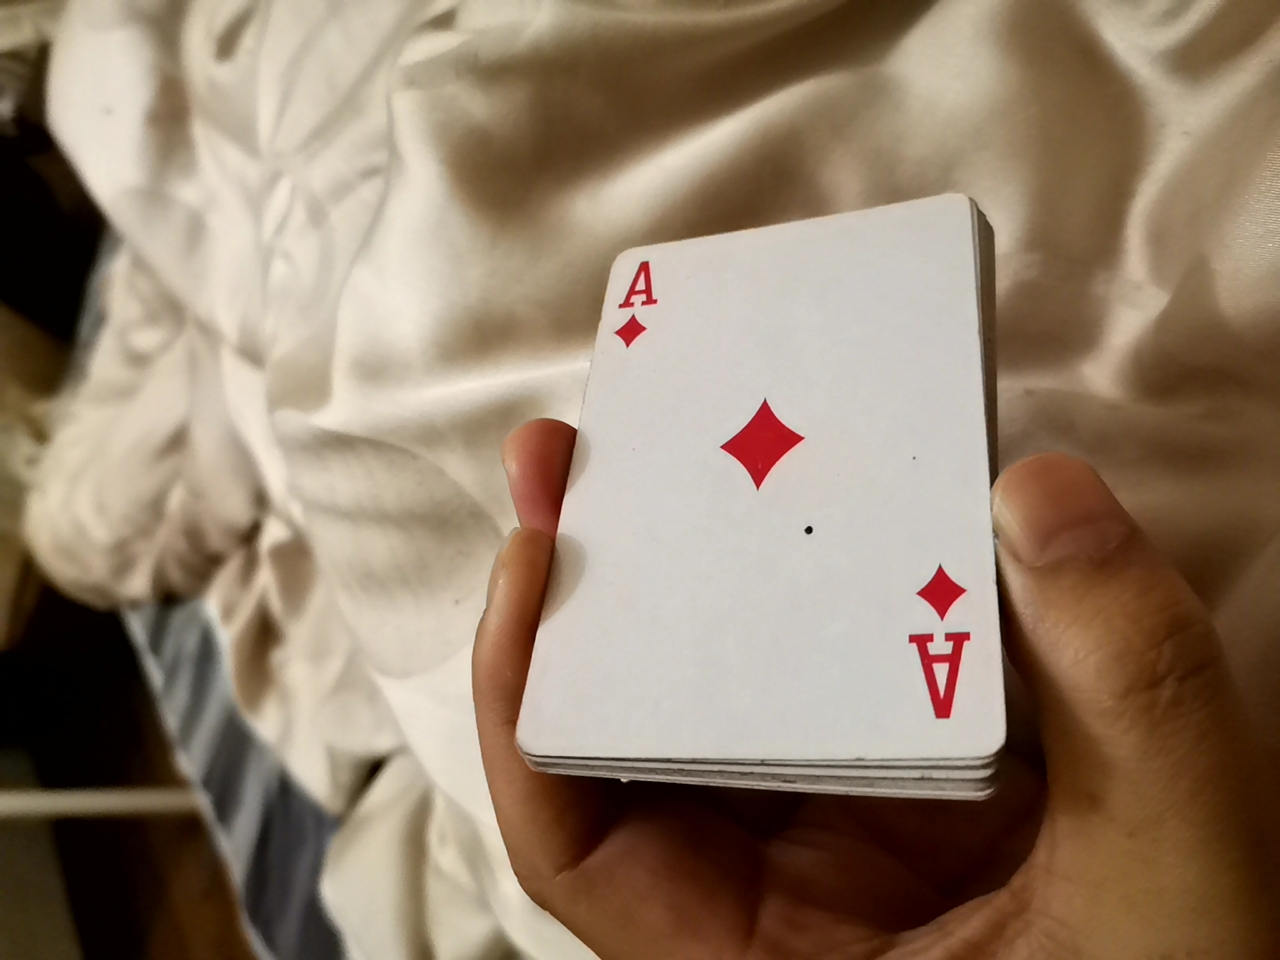fk a: (528, 191, 1009, 781)
